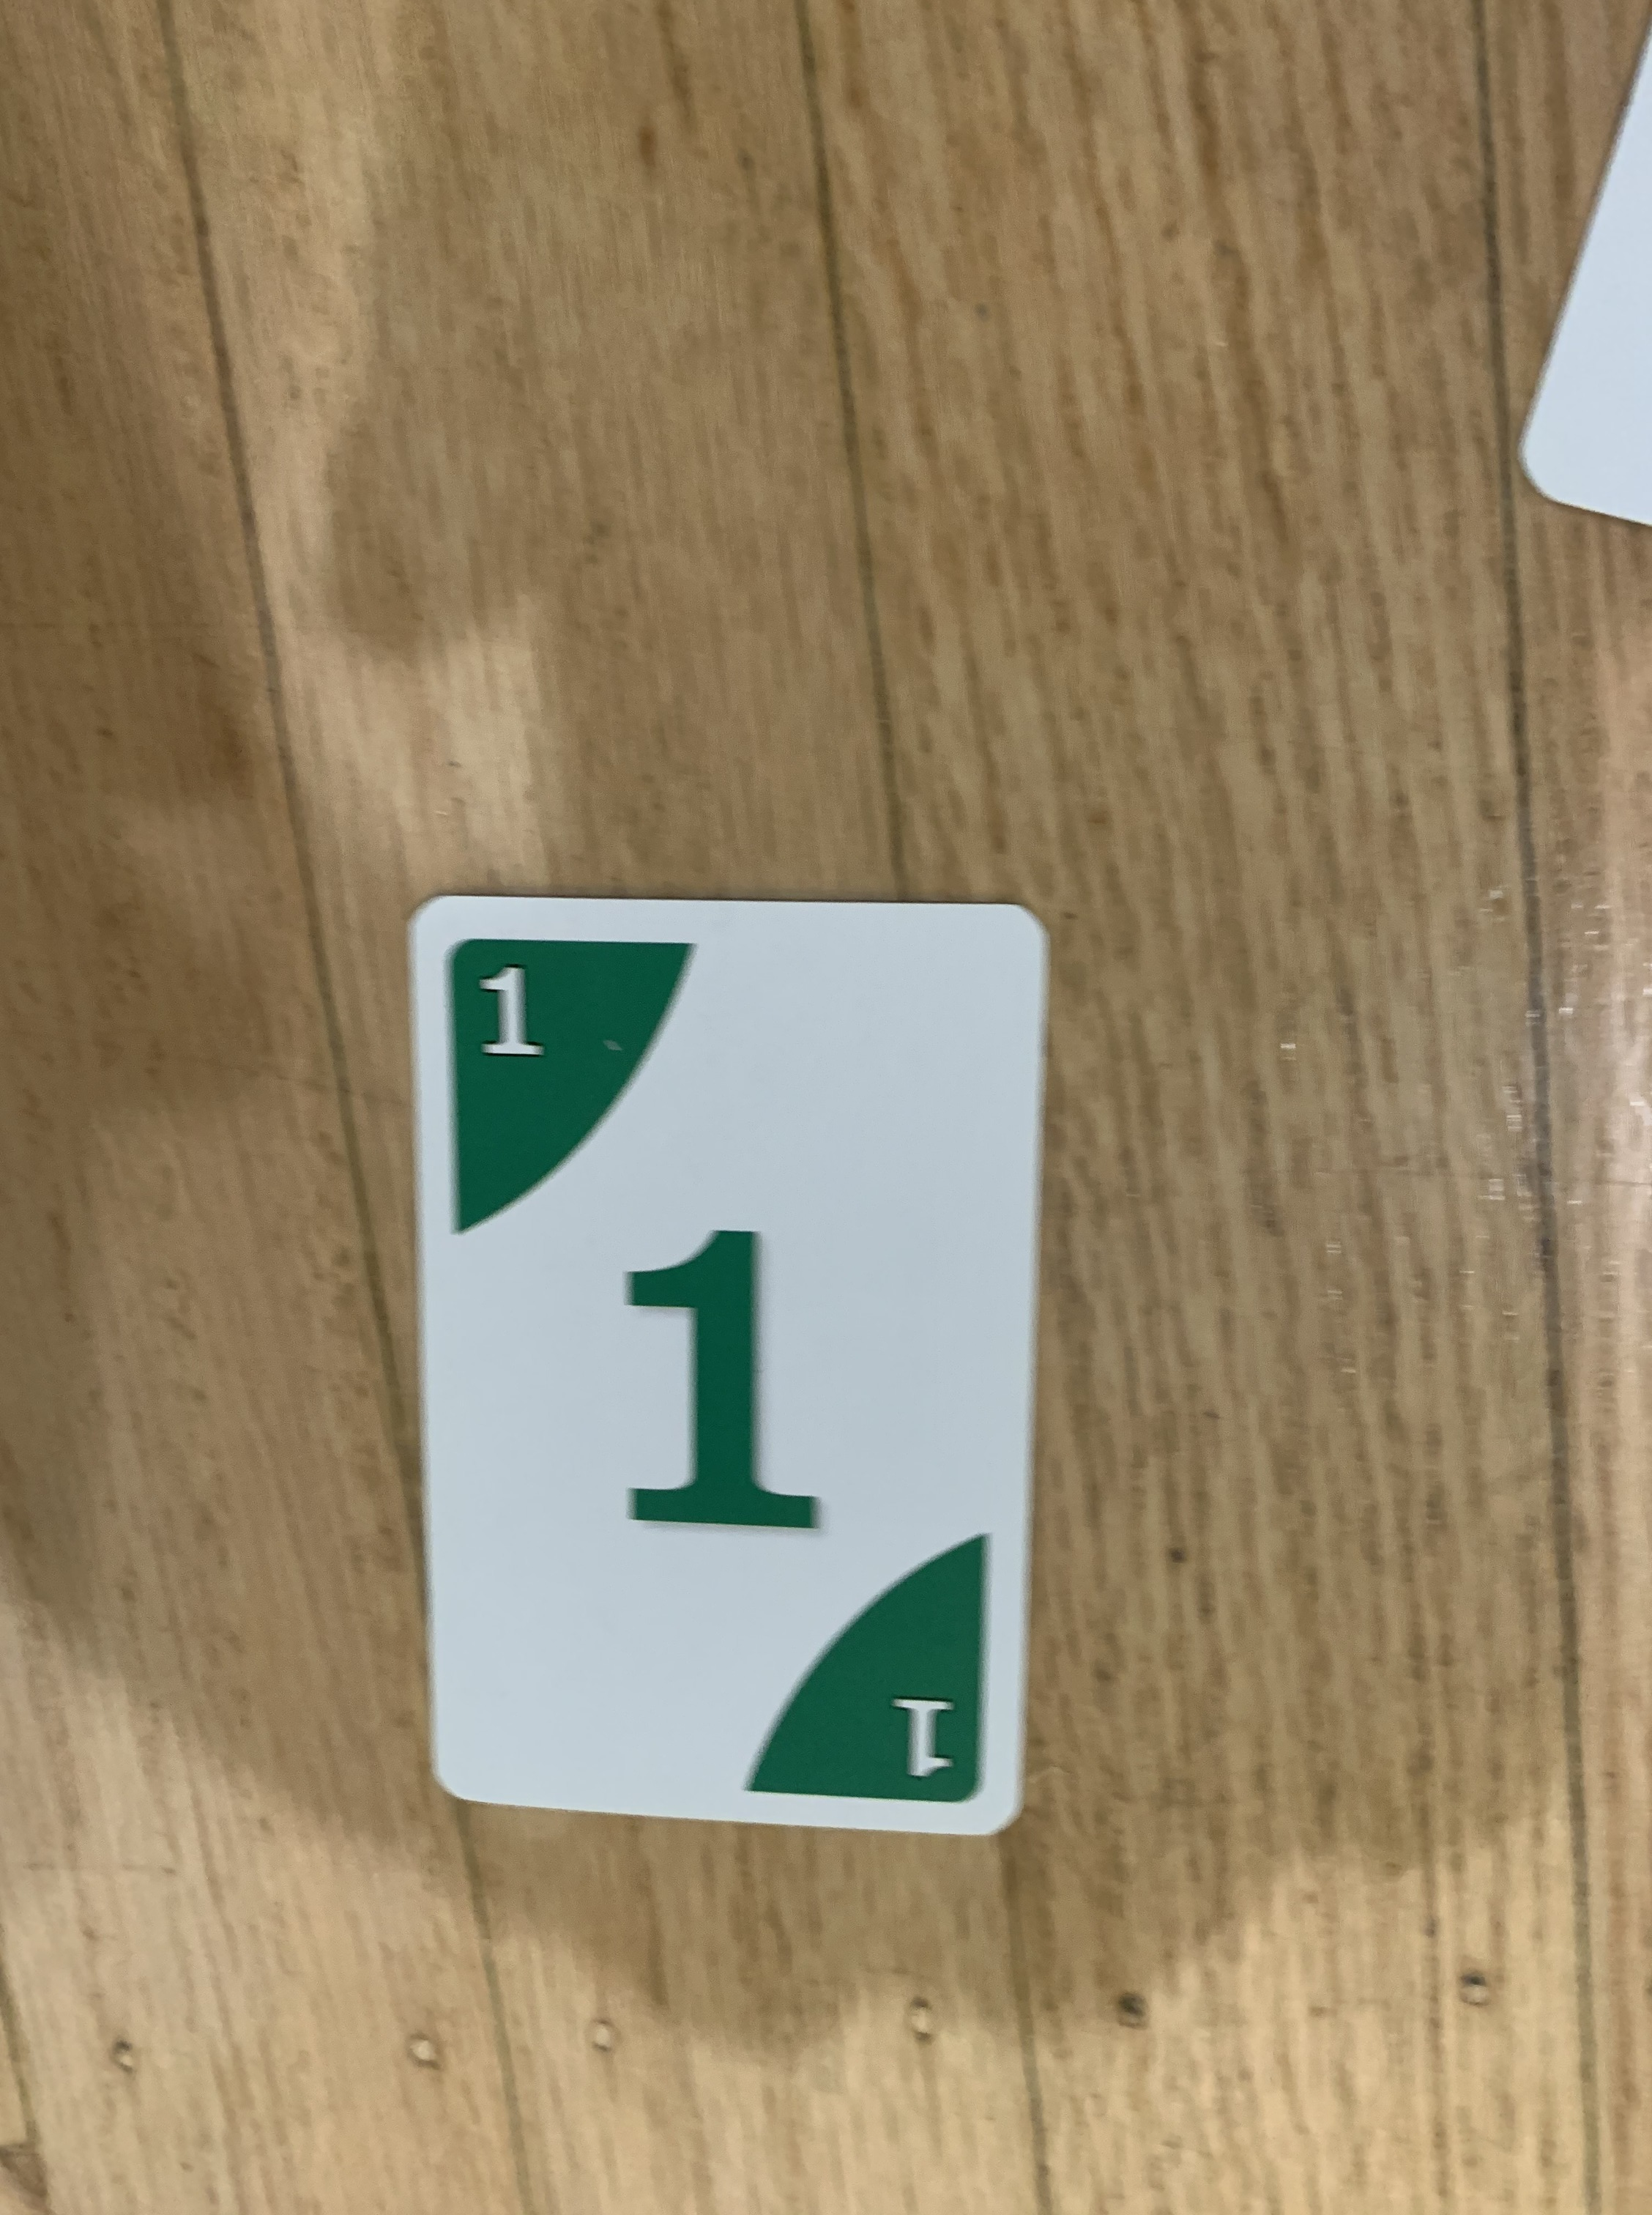one: (385, 887, 1057, 1850)
